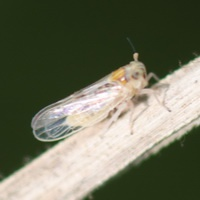insect: (31, 52, 158, 141)
